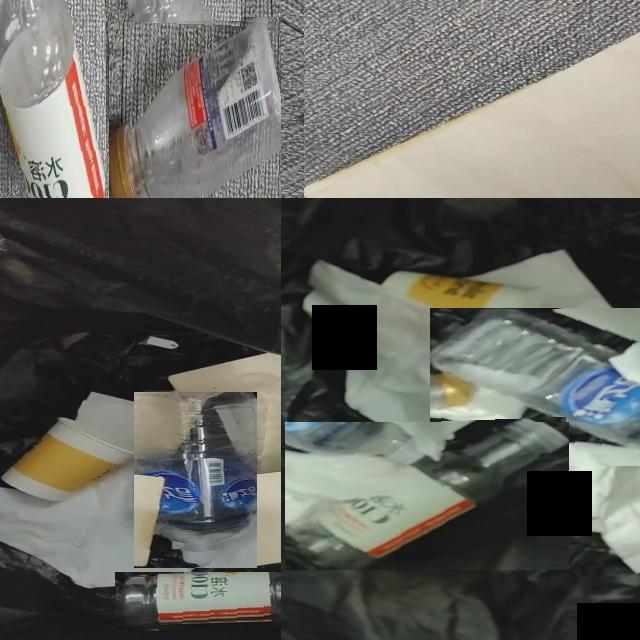bottle: (287, 422, 569, 569), (110, 22, 281, 198), (430, 309, 640, 447), (135, 392, 257, 567), (0, 0, 105, 198), (116, 572, 281, 625)
carton: (305, 31, 640, 198), (168, 354, 281, 473)
dixie_cup: (2, 418, 137, 501), (382, 272, 541, 337)
paper: (303, 264, 559, 462), (414, 434, 640, 573), (0, 467, 190, 588), (470, 250, 618, 348), (72, 392, 142, 454)
